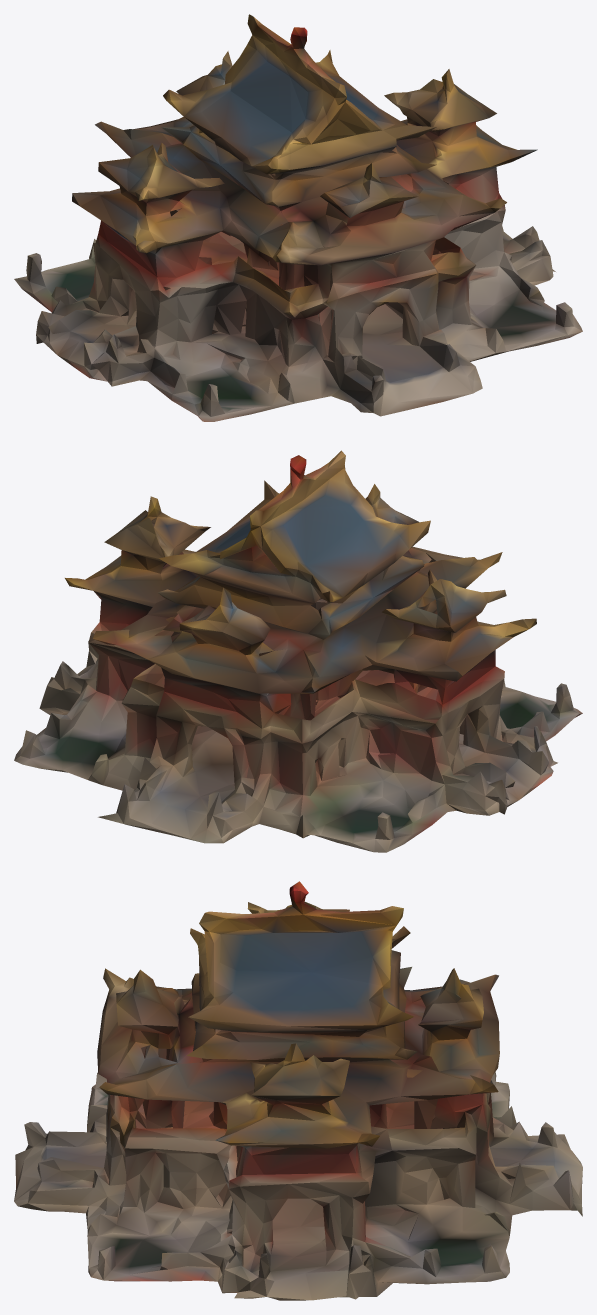
File: bq_array_hall.vc.glb
The picture shows the model from 3 angles, top to bottom: view 1: azimuth 30°, elevation 25°; view 2: azimuth 150°, elevation 25°; view 3: azimuth 270°, elevation 25°; orthographic projection. The views are drawn at different scales.
Parts seen in each view (by area): view 1: bq_array_hall; view 2: bq_array_hall; view 3: bq_array_hall.
Part boxes in pixels (x1,y1,x2,y2): bq_array_hall: (14, 14, 582, 421); bq_array_hall: (14, 450, 582, 852); bq_array_hall: (14, 881, 582, 1300).
Size of the model in its own units: 1.99 by 1.16 by 1.99.
